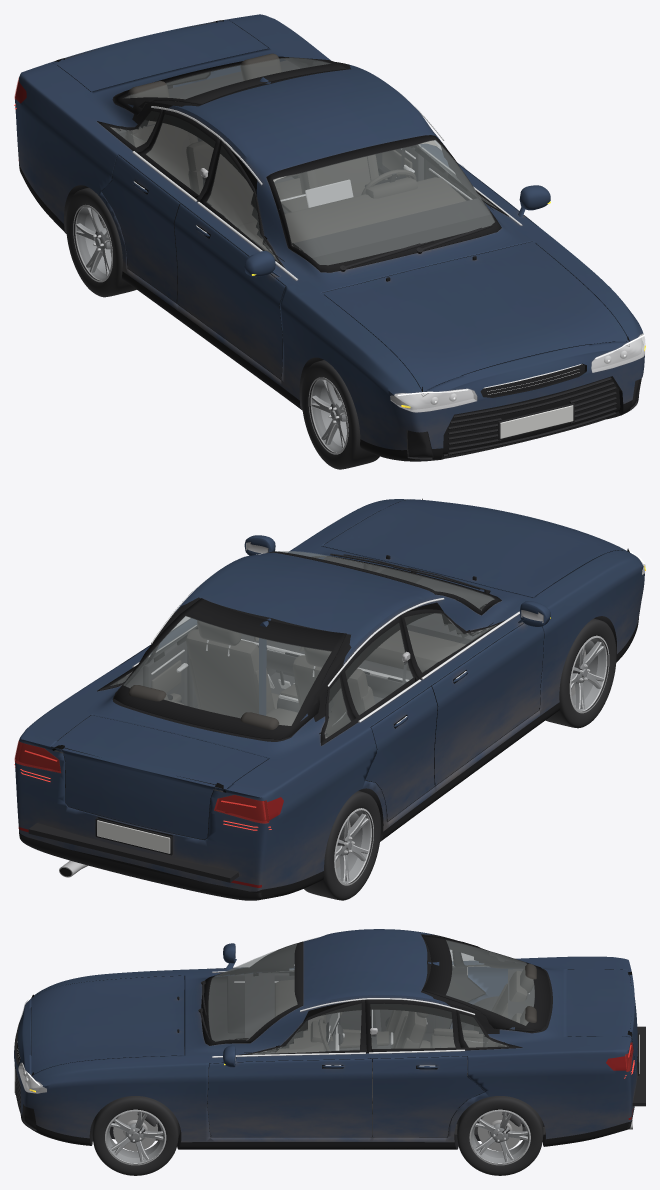
File: sedan_player.glb
3 renders of one model, top to bottom at view 1: azimuth 30°, elevation 25°; view 2: azimuth 150°, elevation 25°; view 3: azimuth 270°, elevation 25°, orthographic. The views are drawn at different scales.
Parts seen in each view (by area): view 1: body, bonnet_body, interior, glass_windshield, door_FR_body, boot_body, door_RR_body, glass_rear, wheel_FR_mesh, wheel_RR_mesh, door_RR_glass_side_R, door_FR_glass_side_R (+9 smaller); view 2: body, glass_rear, bonnet_body, boot_body, interior, door_FR_body, door_RR_body, wheel_RR_mesh, wheel_FR_mesh, door_RR_glass_side_R, door_FR_glass_side_R, bays (+11 smaller); view 3: body, door_FL_body, bonnet_body, interior, glass_rear, glass_windshield, door_RL_body, wheel_FL_mesh, wheel_RL_mesh, boot_body, door_RL_glass_side_L, door_FL_glass_side_L (+10 smaller).
Part boxes in pixels (x1,y1,x2,y2): body: (15, 14, 644, 461); bonnet_body: (322, 241, 629, 396); interior: (111, 60, 494, 265); glass_windshield: (266, 135, 501, 272); door_FR_body: (174, 201, 285, 379); boot_body: (52, 19, 268, 91); door_RR_body: (101, 155, 181, 303); glass_rear: (114, 56, 346, 115); wheel_FR_mesh: (301, 360, 379, 469); wheel_RR_mesh: (66, 187, 136, 297); door_RR_glass_side_R: (136, 109, 217, 197); door_FR_glass_side_R: (195, 137, 284, 267); body: (15, 498, 644, 900); glass_rear: (114, 598, 346, 739); bonnet_body: (322, 499, 627, 597); boot_body: (52, 715, 268, 839); interior: (169, 613, 480, 737); door_FR_body: (420, 623, 544, 785); door_RR_body: (365, 685, 437, 821); wheel_RR_mesh: (304, 791, 380, 900); wheel_FR_mesh: (545, 618, 616, 728); door_RR_glass_side_R: (336, 617, 416, 721); door_FR_glass_side_R: (397, 609, 505, 680); bays: (28, 567, 494, 882); body: (14, 929, 637, 1149); door_FL_body: (207, 1053, 372, 1136); bonnet_body: (31, 975, 184, 1075); interior: (245, 969, 545, 1134); glass_rear: (422, 935, 550, 1032); glass_windshield: (201, 941, 303, 1045); door_RL_body: (370, 1056, 484, 1137); wheel_FL_mesh: (92, 1096, 178, 1175); wheel_RL_mesh: (457, 1096, 543, 1175); boot_body: (567, 969, 637, 1070); door_RL_glass_side_L: (370, 999, 468, 1051); door_FL_glass_side_L: (237, 999, 372, 1055).
Size of the model in its own units: 2.1 by 1.44 by 4.91.
Materials: 37 (1 with a texture image).
